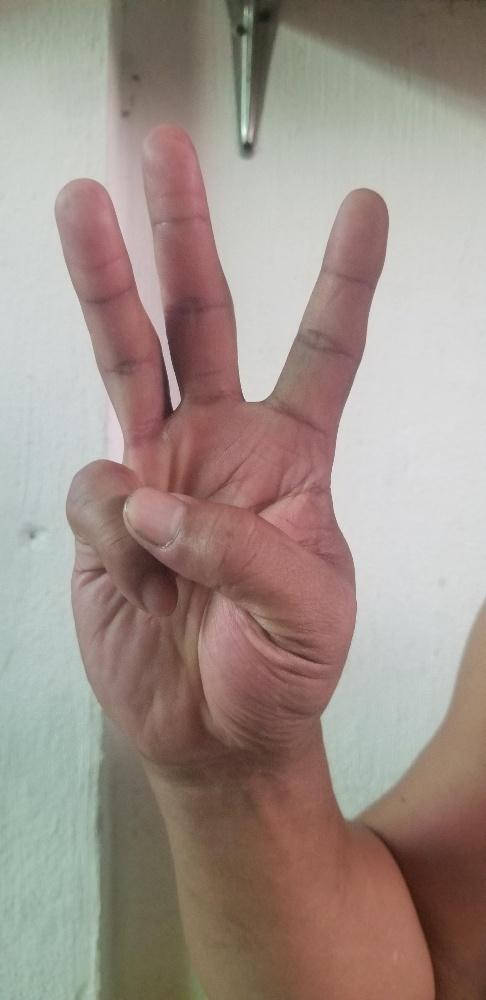w: (51, 122, 390, 748)
